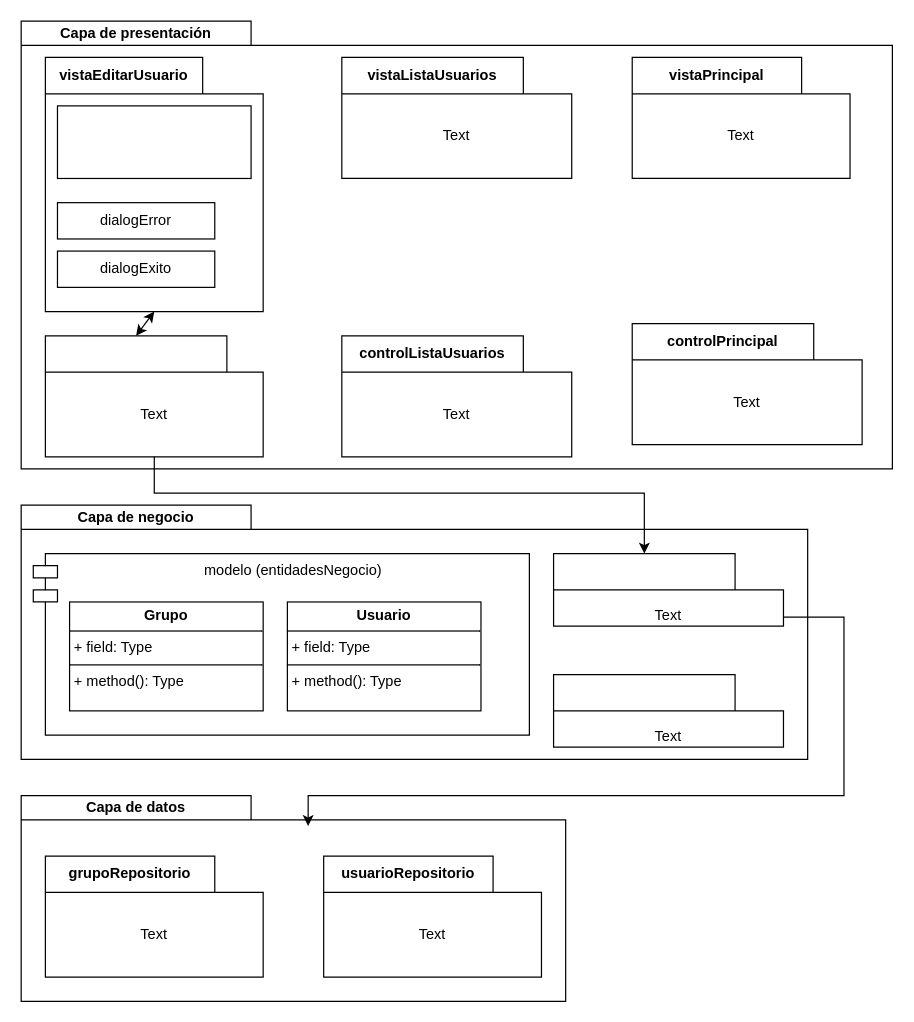
Image size: 914x1022. Some labels were removed from this diagram. The centre of each missing label's shape, as x and y in pixels:
controlEditarUsuario: (x=153, y=396)
servicioGrupo: (x=667, y=710)
servicioUsuario: (x=667, y=589)
ventanaEditarUsuario: (x=153, y=141)
